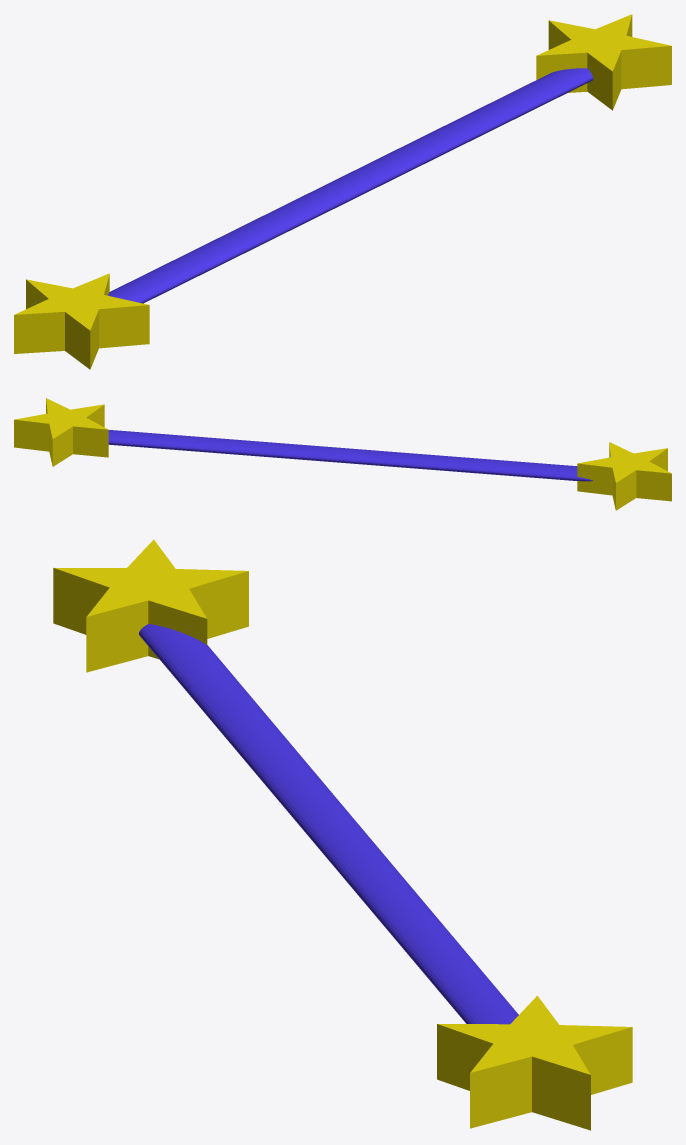
Rendered from Ryouken-za.glb.
3 renders of one model, top to bottom at view 1: azimuth 30°, elevation 25°; view 2: azimuth 150°, elevation 25°; view 3: azimuth 270°, elevation 25°, orthographic. The views are drawn at different scales.
Parts seen in each view (by area): view 1: 円柱.003, 円.010, 円.001; view 2: 円柱.003, 円.001, 円.010; view 3: 円柱.003, 円.001, 円.010.
Boxes of the visible parts, x1,y1,x2,y2 form: 円柱.003: (108,68,593,303); 円.010: (14,273,149,369); 円.001: (536,14,671,110); 円柱.003: (108,430,592,481); 円.001: (14,398,108,466); 円.010: (577,442,671,510); 円柱.003: (139,624,518,1024); 円.001: (437,995,632,1130); 円.010: (53,539,248,672).
Size of what is drawn, in the model's own units: 18.49 by 0.8959 by 8.45.
